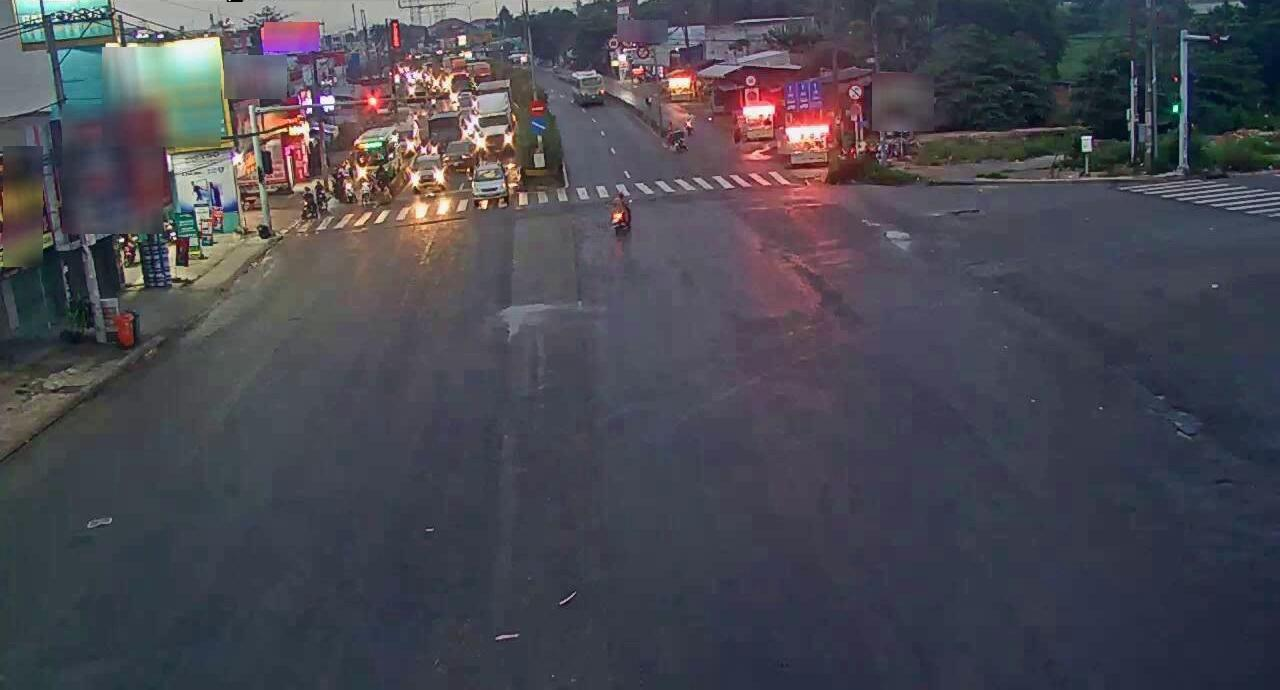xe may: (608, 184, 631, 234)
